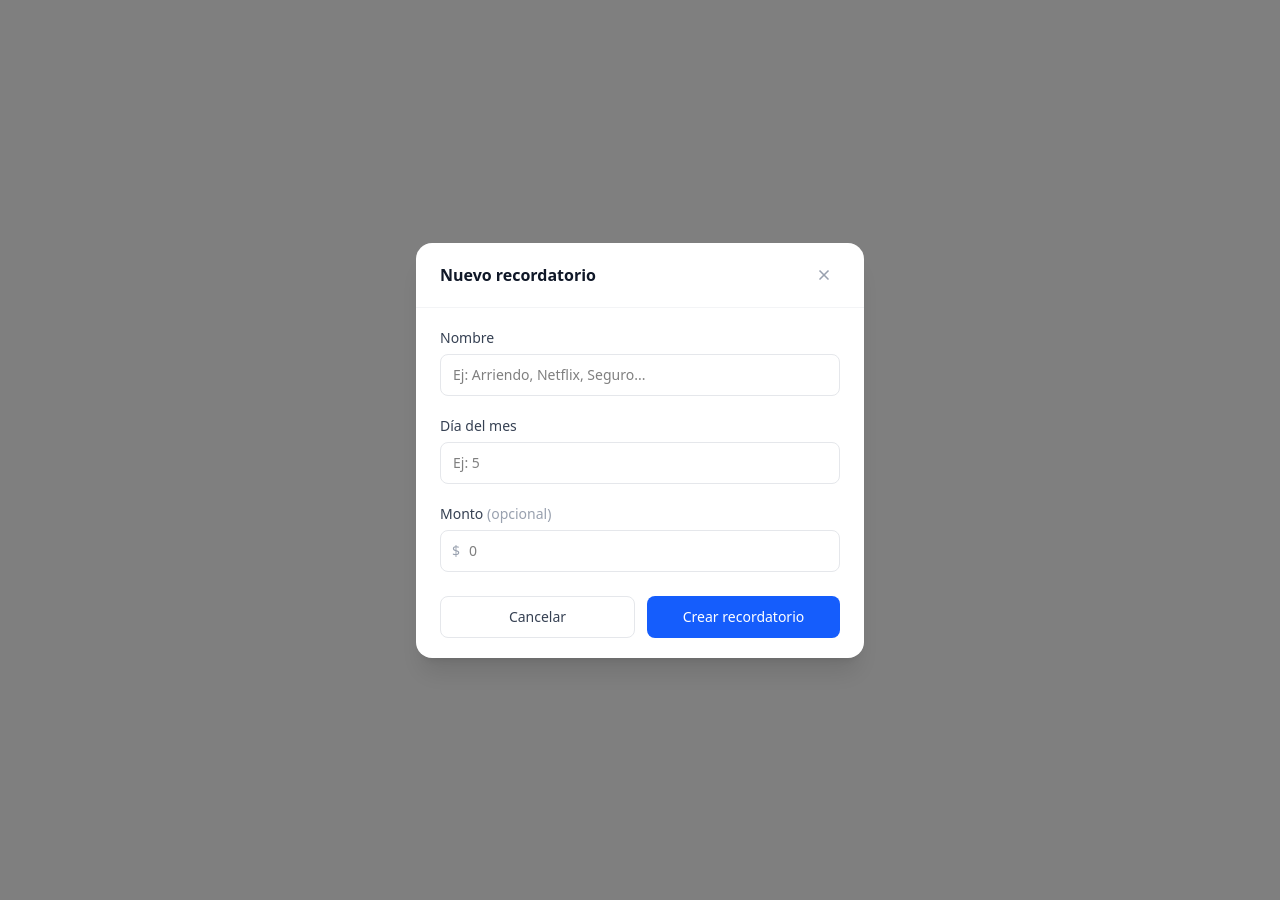
Test case: RecordatorioModal — seguridad › muestra error si crearRecordatorio falla
In the field labelled "Nombre": (640, 374) [440, 354, 840, 396], type "Test"
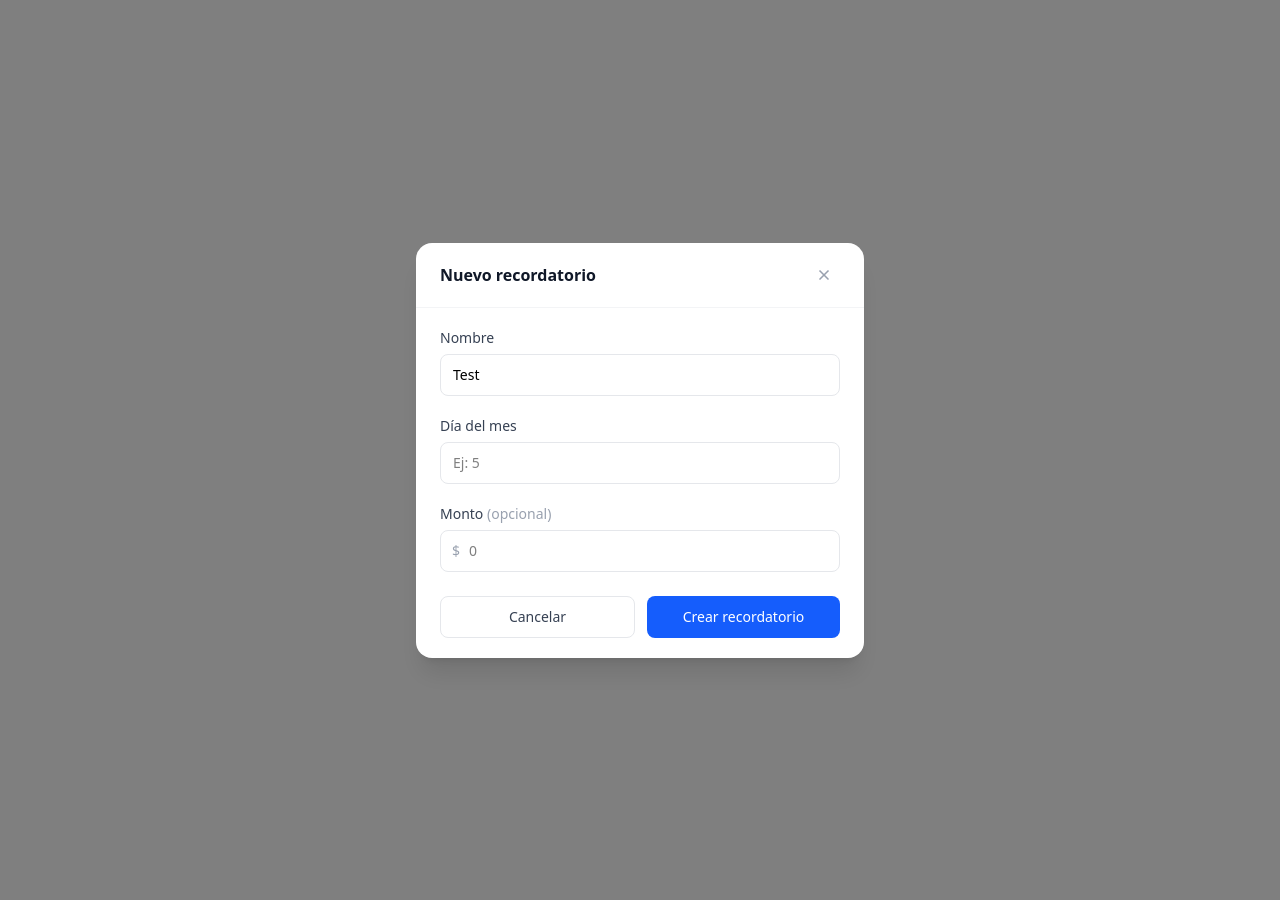
In the number field labelled "Día del mes": (640, 462) [440, 442, 840, 484], type "5"
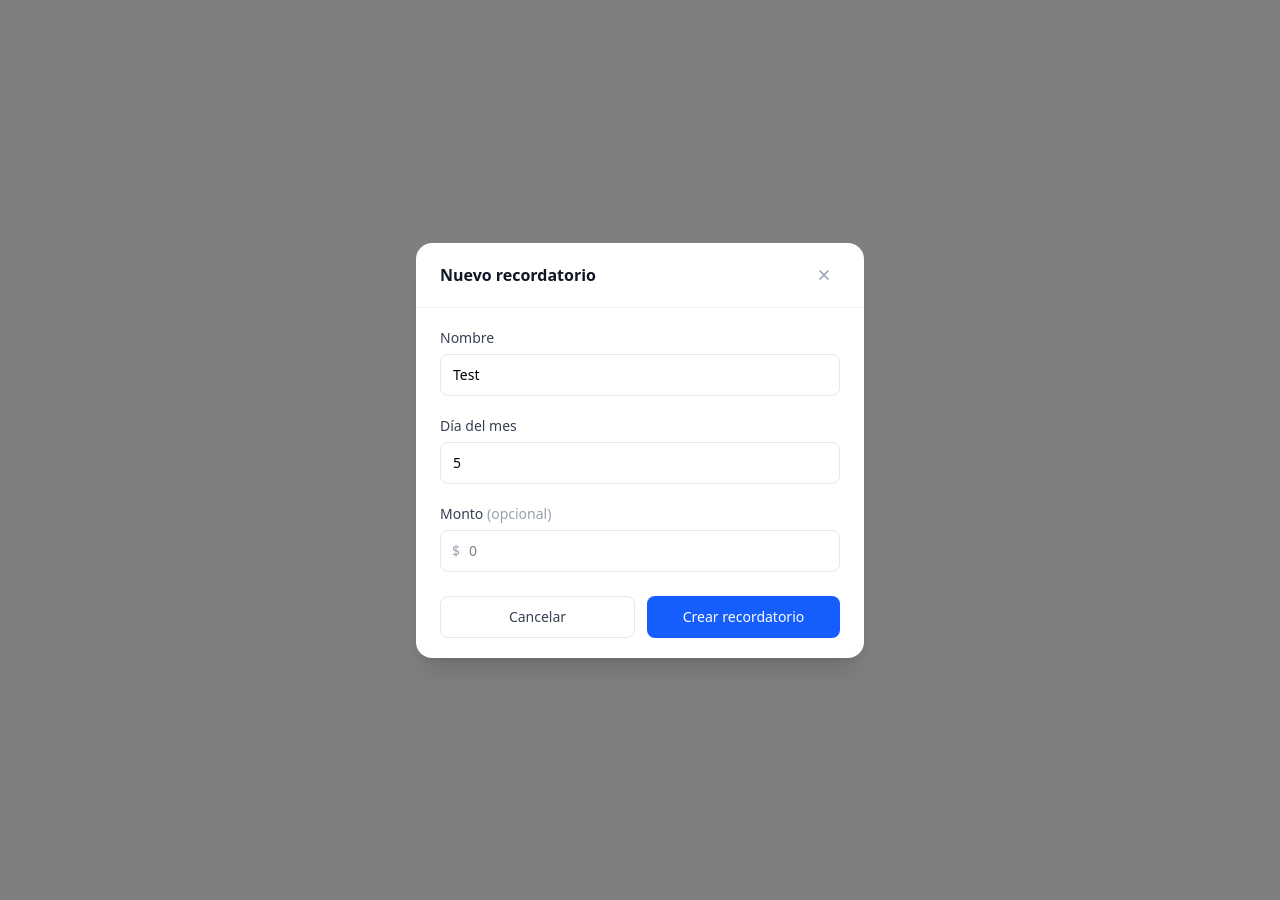
Submit the form labelled "Nombre", box [416, 308, 864, 658]
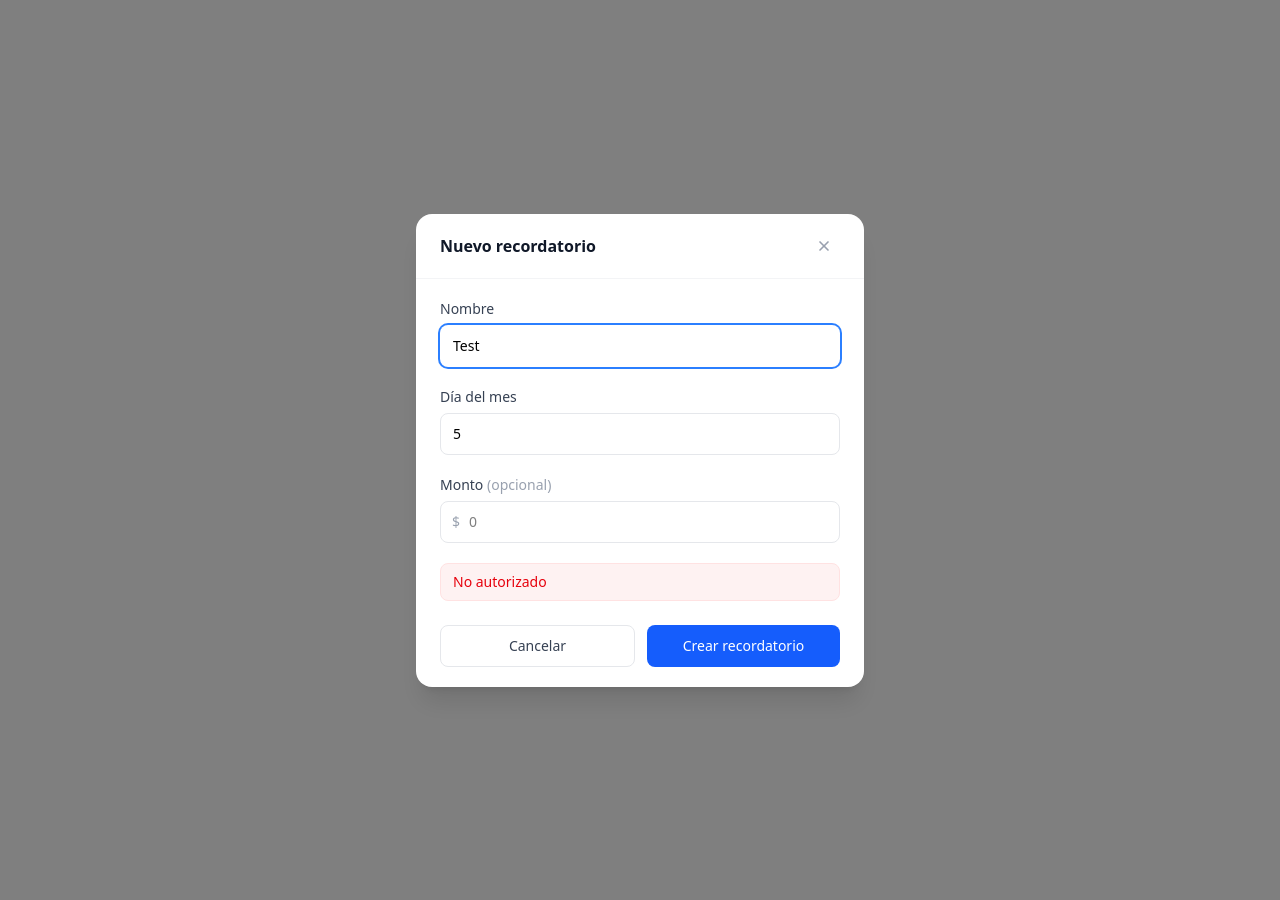
Expected: the text "No autorizado" is shown, [440, 562, 840, 600]
